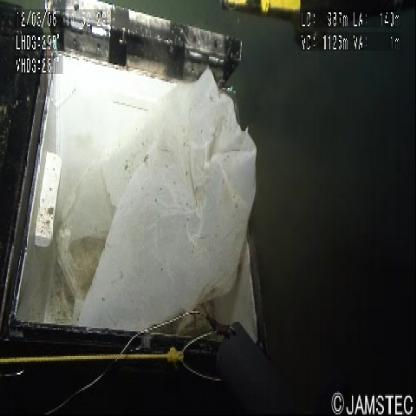Rác: (32, 51, 268, 336)
